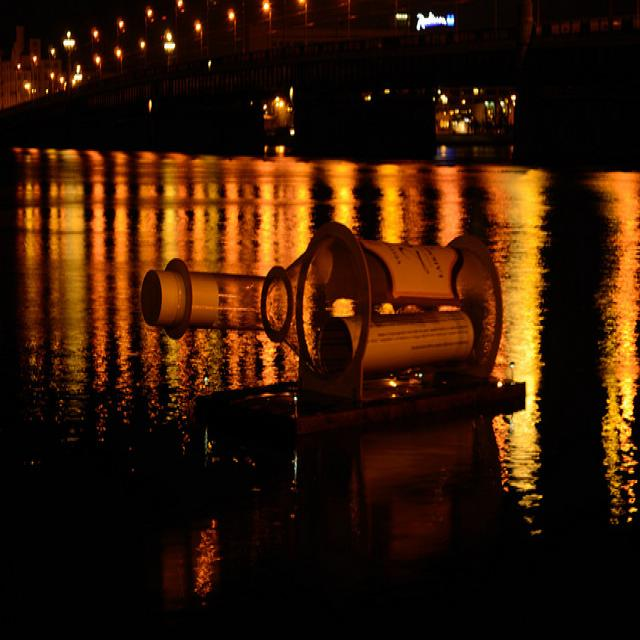Boat: (349, 73, 536, 177)
